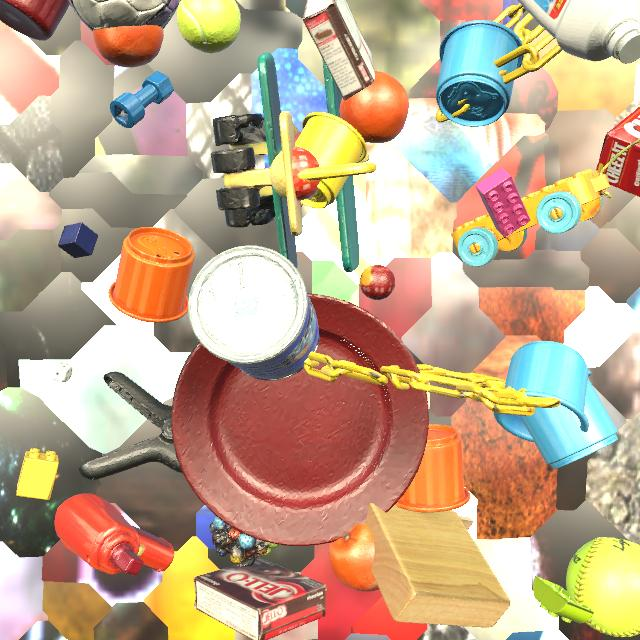ycb_002_master_chef_can: (188, 246, 320, 381)
ycb_003_cracker_box: (596, 107, 640, 197)
ycb_008_pudding_box: (194, 558, 327, 640), (303, 0, 375, 101)
ycb_017_orange: (340, 71, 409, 143), (329, 523, 379, 592), (93, 25, 164, 67)
